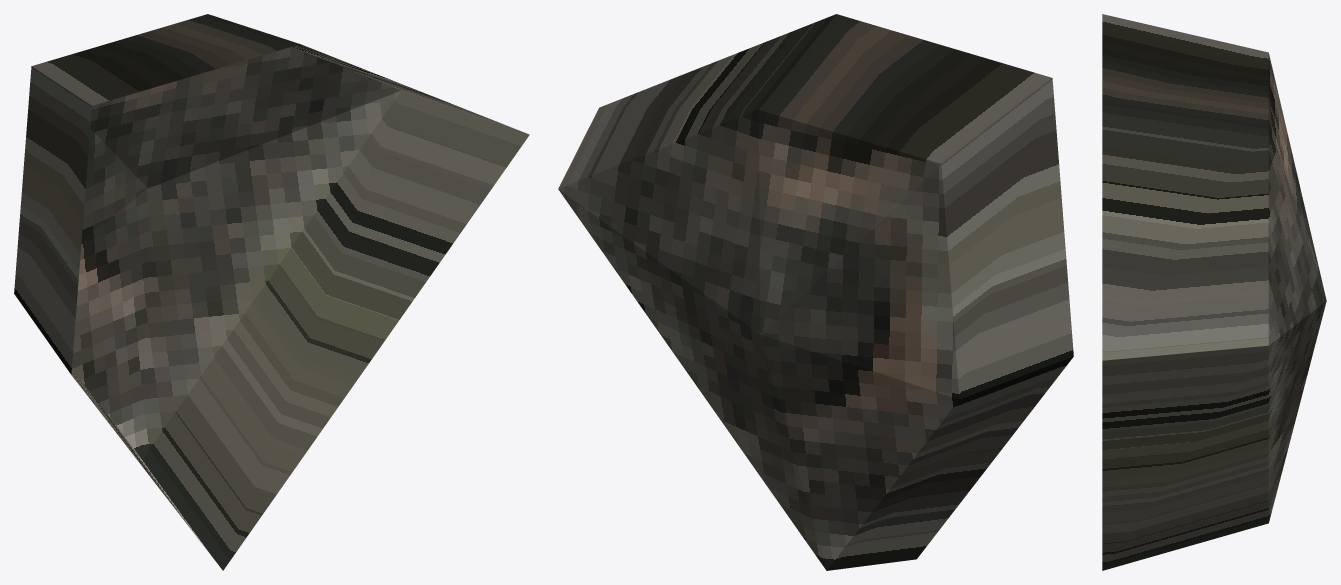
Rendered from Stone_2.fbx.
The picture shows the model from 3 angles, left to right: view 1: azimuth 30°, elevation 25°; view 2: azimuth 150°, elevation 25°; view 3: azimuth 270°, elevation 25°; orthographic projection. The views are drawn at different scales.
Visible parts, largest first — view 1: Stone_2; view 2: Stone_2; view 3: Stone_2.
Boxes of the visible parts, box(x1,y1,x2,y2) form: Stone_2: box(14, 14, 529, 570); Stone_2: box(558, 14, 1073, 570); Stone_2: box(1102, 14, 1326, 570).
Size of the model in its own units: 93.74 by 99.22 by 40.03.
